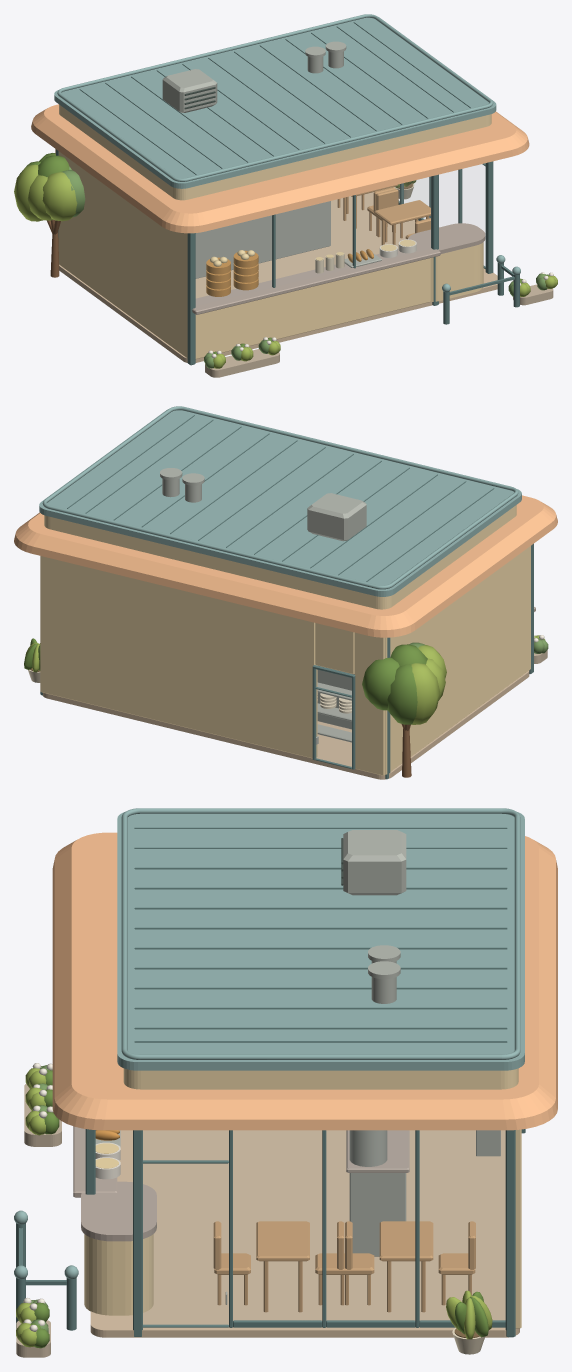
The picture shows the model from 3 angles, top to bottom: view 1: azimuth 30°, elevation 25°; view 2: azimuth 150°, elevation 25°; view 3: azimuth 270°, elevation 25°; orthographic projection. The views are drawn at different scales.
Visible parts, largest first — view 1: R 青绿平屋面, R 环绕弧沿雨棚, A 左墙, A 前柜台墙, S 室内楼面, I 后操作柜, A 高屋顶奶油檐壁, L 乔木 · 枝干与树冠, R 屋顶边框, I 连续工作台, A 柱, R 金属板接缝 (+12 smaller); view 2: R 青绿平屋面, A 后墙右段, R 环绕弧沿雨棚, A 左墙, A 高屋顶奶油檐壁, L 乔木 · 枝干与树冠, R 屋顶边框, S 室内楼面, A 后墙左段, R 金属板接缝, I 排风机, A 后门过梁 (+6 smaller); view 3: R 青绿平屋面, S 室内楼面, R 环绕弧沿雨棚, R 金属板接缝, R 屋顶边框, A 高屋顶奶油檐壁, A 用餐侧窗, A 柱, I 圆角取餐柜, I 桌面, I 排风机, I 后操作柜 (+16 smaller).
Part boxes in pixels (bbox=[...]): R 青绿平屋面: bbox=[54, 17, 496, 188]; R 环绕弧沿雨棚: bbox=[31, 104, 529, 233]; A 左墙: bbox=[58, 151, 187, 358]; A 前柜台墙: bbox=[195, 258, 430, 358]; S 室内楼面: bbox=[59, 192, 497, 362]; I 后操作柜: bbox=[195, 201, 330, 278]; A 高屋顶奶油檐壁: bbox=[59, 104, 491, 200]; L 乔木 · 枝干与树冠: bbox=[14, 153, 85, 277]; R 屋顶边框: bbox=[57, 14, 493, 181]; I 连续工作台: bbox=[192, 242, 440, 314]; A 柱: bbox=[56, 149, 493, 365]; R 金属板接缝: bbox=[79, 22, 470, 174]; R 青绿平屋面: bbox=[39, 409, 521, 596]; A 后墙右段: bbox=[40, 556, 317, 758]; R 环绕弧沿雨棚: bbox=[14, 495, 557, 637]; A 左墙: bbox=[385, 546, 530, 774]; A 高屋顶奶油檐壁: bbox=[44, 505, 516, 609]; L 乔木 · 枝干与树冠: bbox=[362, 642, 446, 777]; R 屋顶边框: bbox=[42, 406, 518, 589]; S 室内楼面: bbox=[42, 670, 529, 779]; A 后墙左段: bbox=[354, 632, 385, 775]; R 金属板接缝: bbox=[67, 415, 494, 581]; I 排风机: bbox=[307, 493, 366, 541]; A 后门过梁: bbox=[315, 623, 354, 674]; R 青绿平屋面: bbox=[117, 812, 524, 1070]; S 室内楼面: bbox=[90, 1130, 519, 1337]; R 环绕弧沿雨棚: bbox=[52, 832, 557, 1130]; R 金属板接缝: bbox=[134, 827, 507, 1042]; R 屋顶边框: bbox=[121, 808, 520, 1059]; A 高屋顶奶油檐壁: bbox=[123, 1068, 518, 1089]; A 用餐侧窗: bbox=[143, 1130, 505, 1327]; A 柱: bbox=[85, 1129, 515, 1337]; I 圆角取餐柜: bbox=[84, 1234, 153, 1315]; I 桌面: bbox=[256, 1221, 433, 1261]; I 排风机: bbox=[343, 830, 406, 895]; I 后操作柜: bbox=[349, 1173, 406, 1256].
Bounding box in the file's own units: 22.84 × 11.1 × 17.22.
